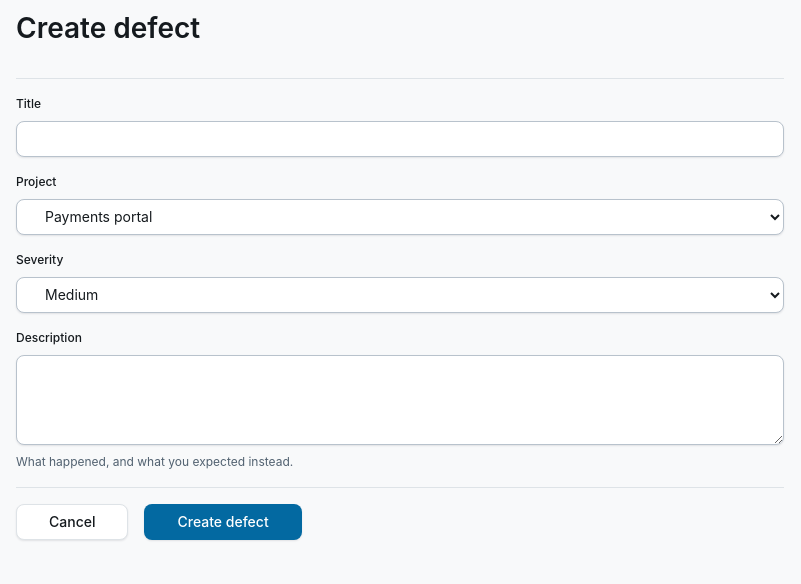
Scenario: CreateDefectPage › asks for a title next to the field when it is empty
The width and height of the screenshot is (801, 584).
Click the button "Create defect" at (223, 522), box [144,504,302,540]
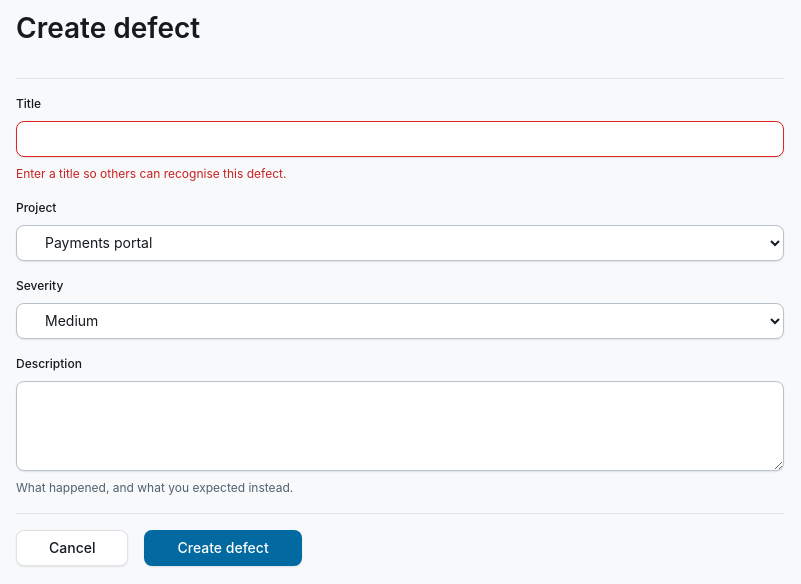
Expected: the message reads "Enter a title so others can recognise this defect.", [16,166,286,181]
